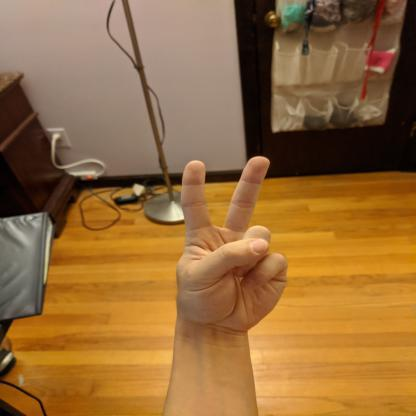V: (171, 154, 291, 336)
